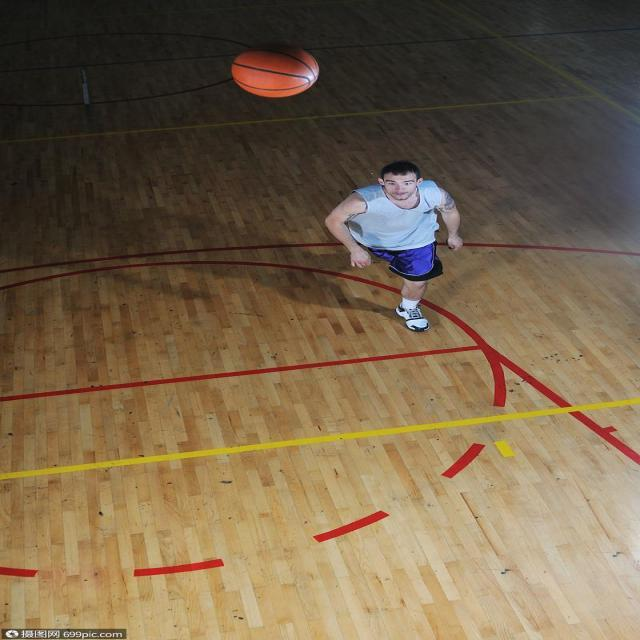rim: (230, 38, 328, 98)
